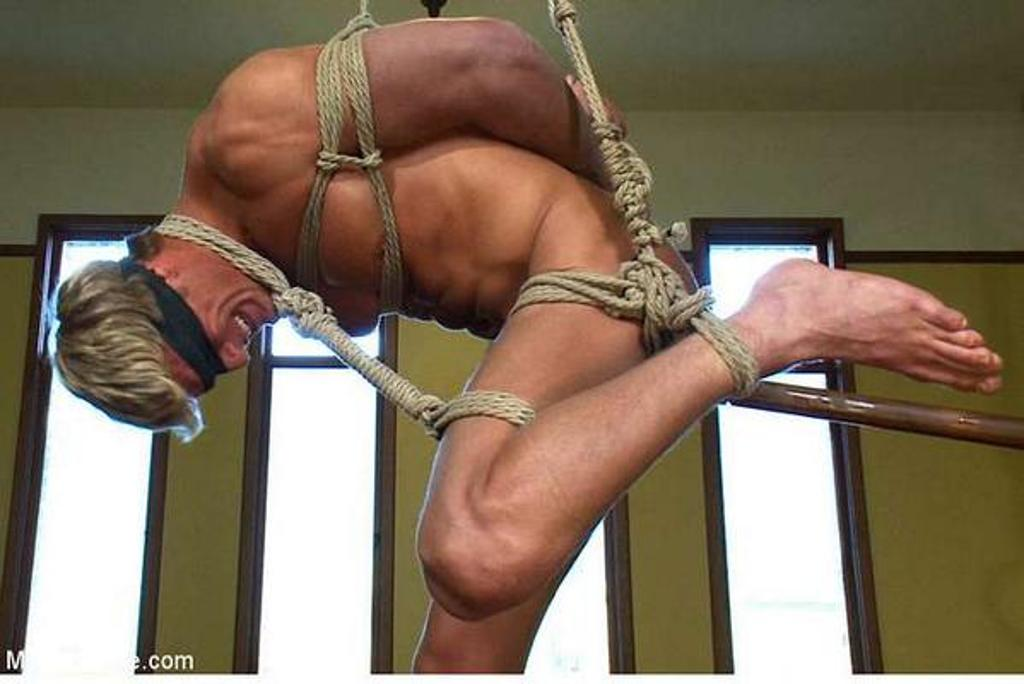face: (152, 284, 274, 402)
